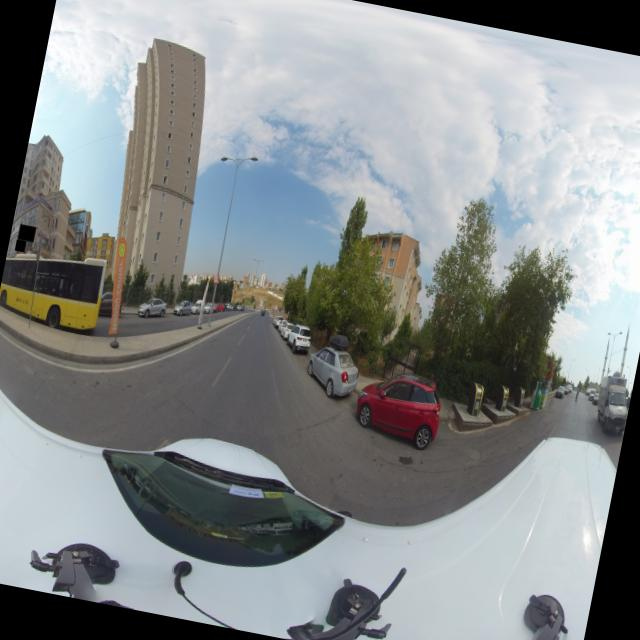SignStore: (17, 227, 36, 239), (15, 240, 26, 252)
